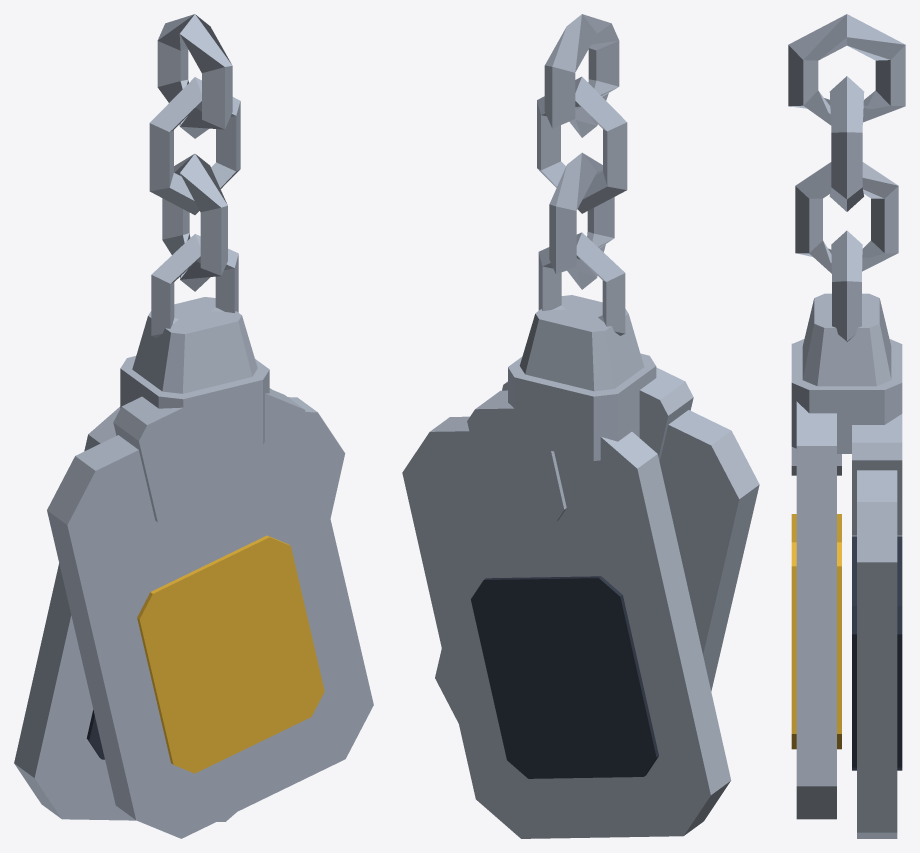
Rendered from DogTags.fbx.
The picture shows the model from 3 angles, left to right: view 1: azimuth 30°, elevation 25°; view 2: azimuth 150°, elevation 25°; view 3: azimuth 270°, elevation 25°; orthographic projection.
Visible parts, largest first — view 1: Body_Tag_Steel, Body_Tag_Gold, Chain; view 2: Body_Tag_Steel, Body_Tag_Dark, Chain; view 3: Body_Tag_Steel, Chain, Body_Tag_Gold, Body_Tag_Dark.
Boxes of the visible parts, x1,y1,x2,y2 form: Body_Tag_Steel: [14, 234, 373, 838]; Body_Tag_Gold: [137, 535, 324, 773]; Chain: [149, 14, 240, 291]; Body_Tag_Steel: [402, 232, 759, 838]; Body_Tag_Dark: [471, 576, 658, 778]; Chain: [537, 14, 627, 289]; Body_Tag_Steel: [791, 230, 902, 838]; Chain: [788, 14, 905, 273]; Body_Tag_Gold: [791, 514, 841, 749]; Body_Tag_Dark: [852, 536, 902, 770].
Size of the model in its own units: 0.1401 by 0.3536 by 0.0466.
